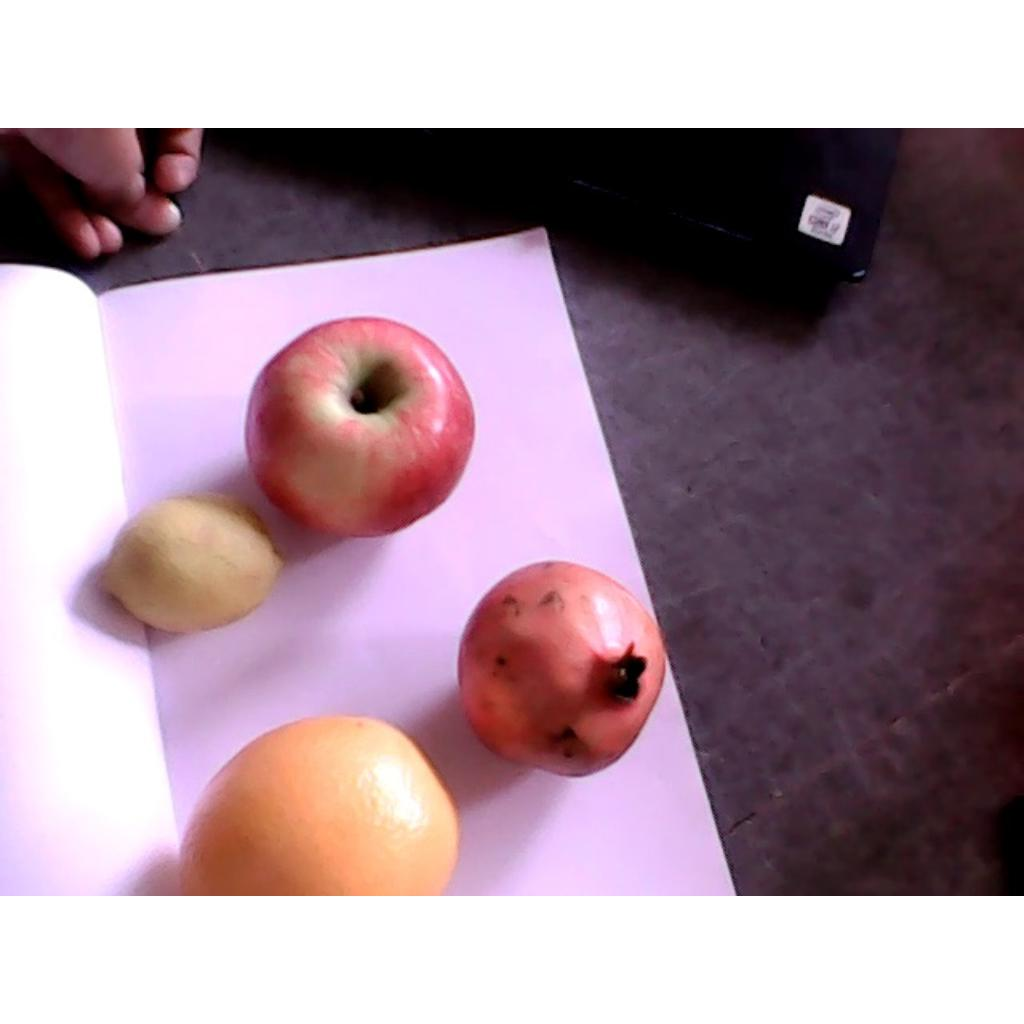apple: (245, 315, 476, 539)
lemon: (97, 490, 283, 633)
orange: (177, 716, 461, 894)
pomegranate: (457, 559, 667, 779)
